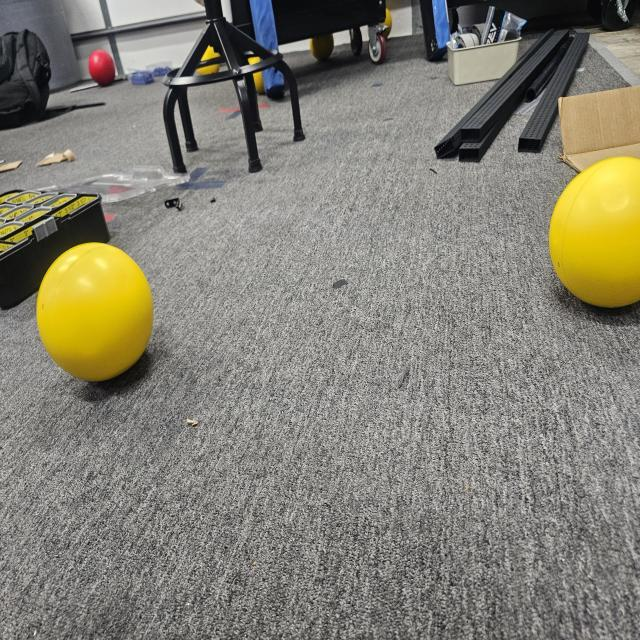Fuel: (31, 235, 160, 393), (544, 147, 640, 320)
